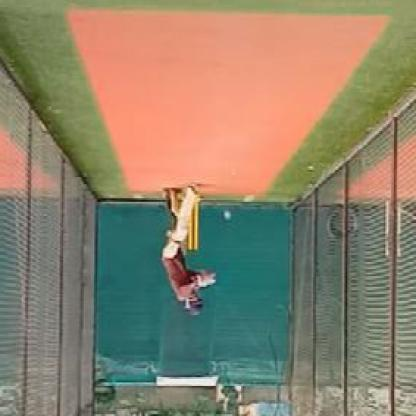ball: (222, 207, 231, 223)
